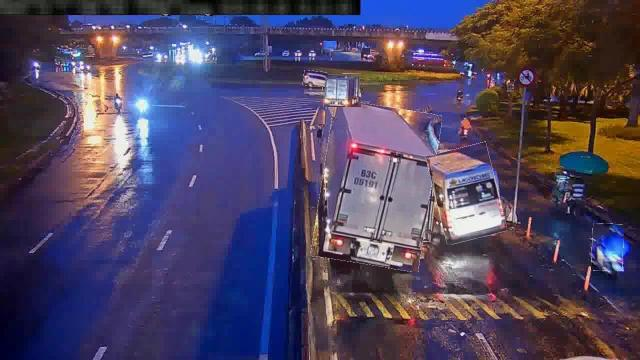Bike: (592, 224, 624, 272), (456, 116, 472, 138)
Bus: (430, 144, 502, 241)
Car: (304, 71, 328, 87)
Truck: (316, 103, 436, 269), (323, 74, 361, 108)
